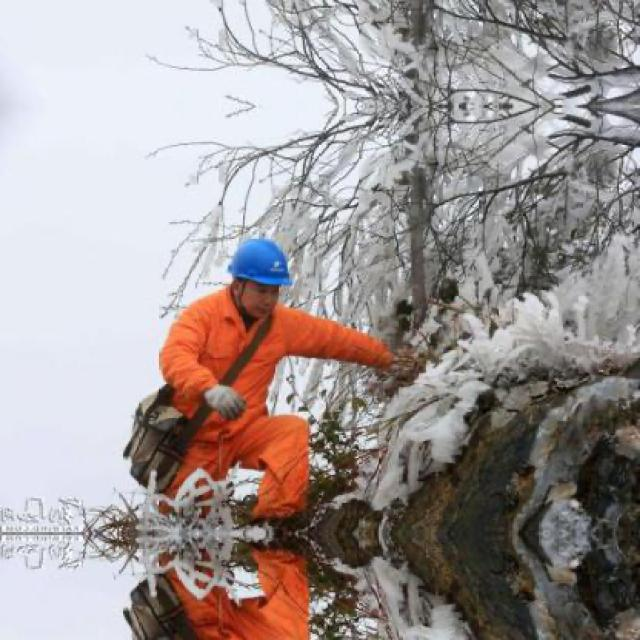con casco: (180, 222, 310, 338)
